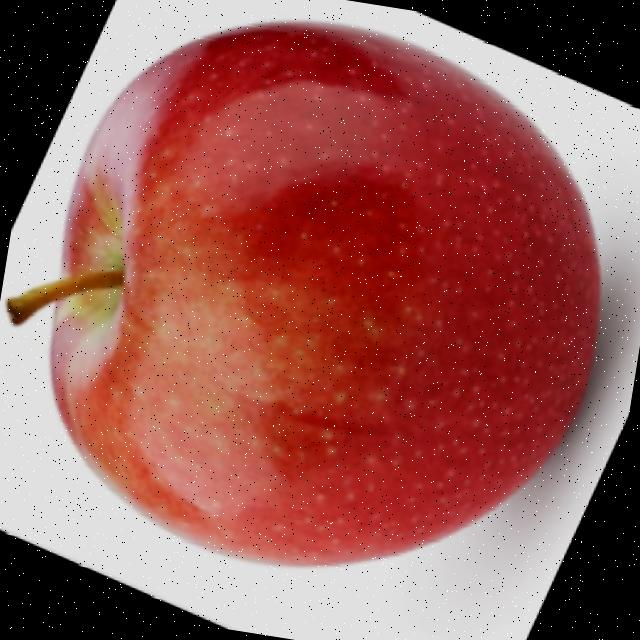Ripe: (4, 0, 640, 619)
